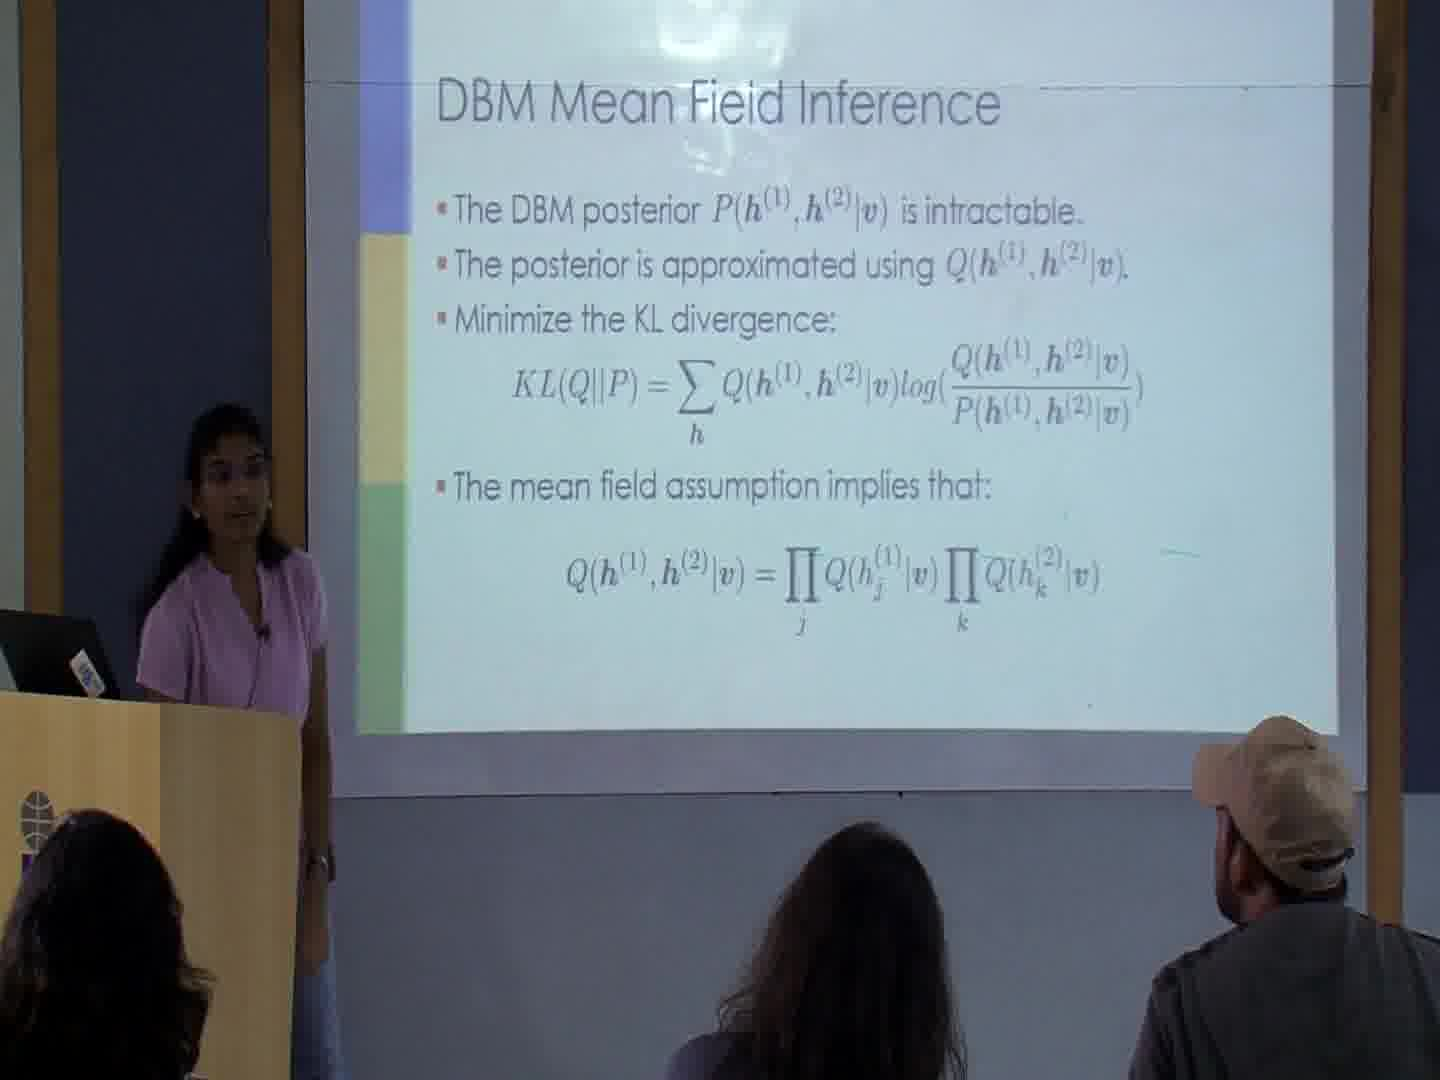eq: (513, 336, 1150, 450), (561, 542, 1106, 641)
